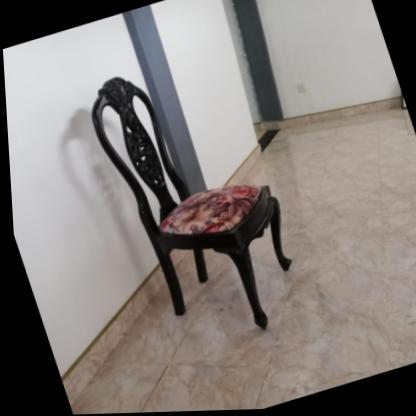Ceramic floor: (56, 102, 416, 415)
Chair: (75, 42, 311, 361)
